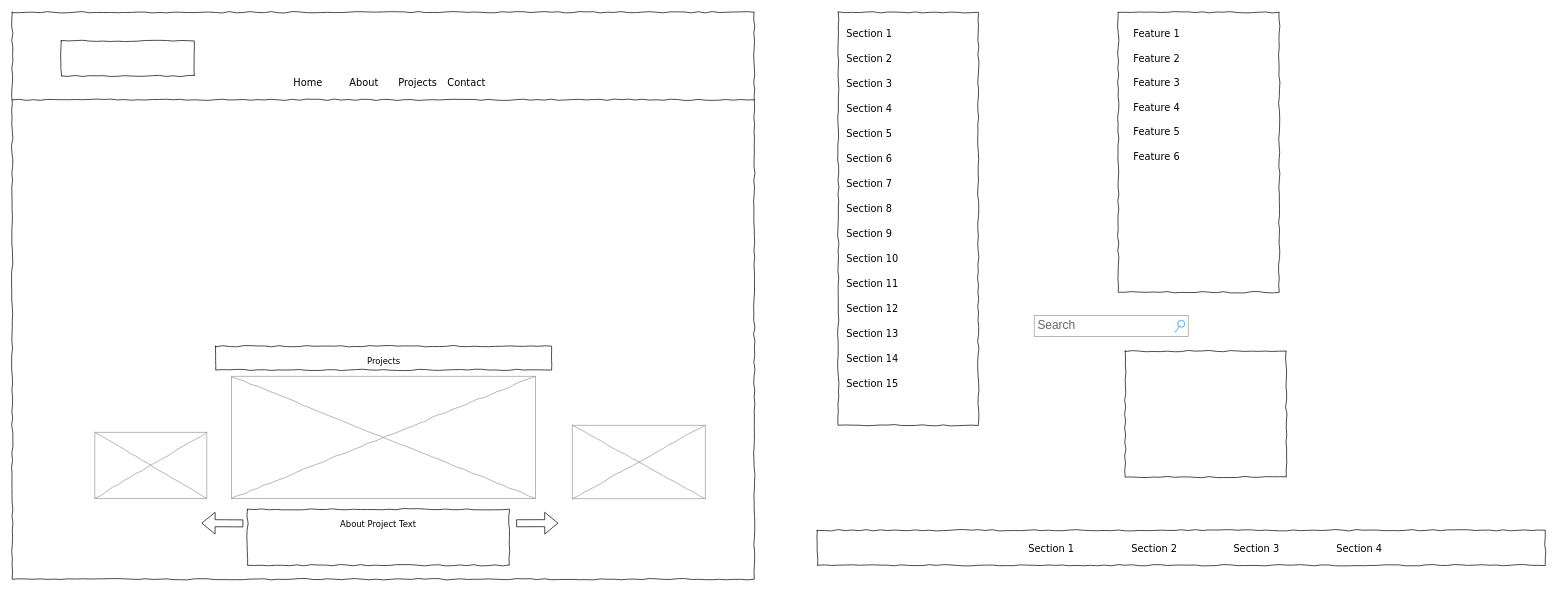
Image size: 1558x592. Some labels were removed from this diagram. The box of each missing label's shape, as (x1, y1, x2, y2) in pixels:
External Links: (1125, 350, 1286, 477)
LOGO: (61, 40, 194, 76)
